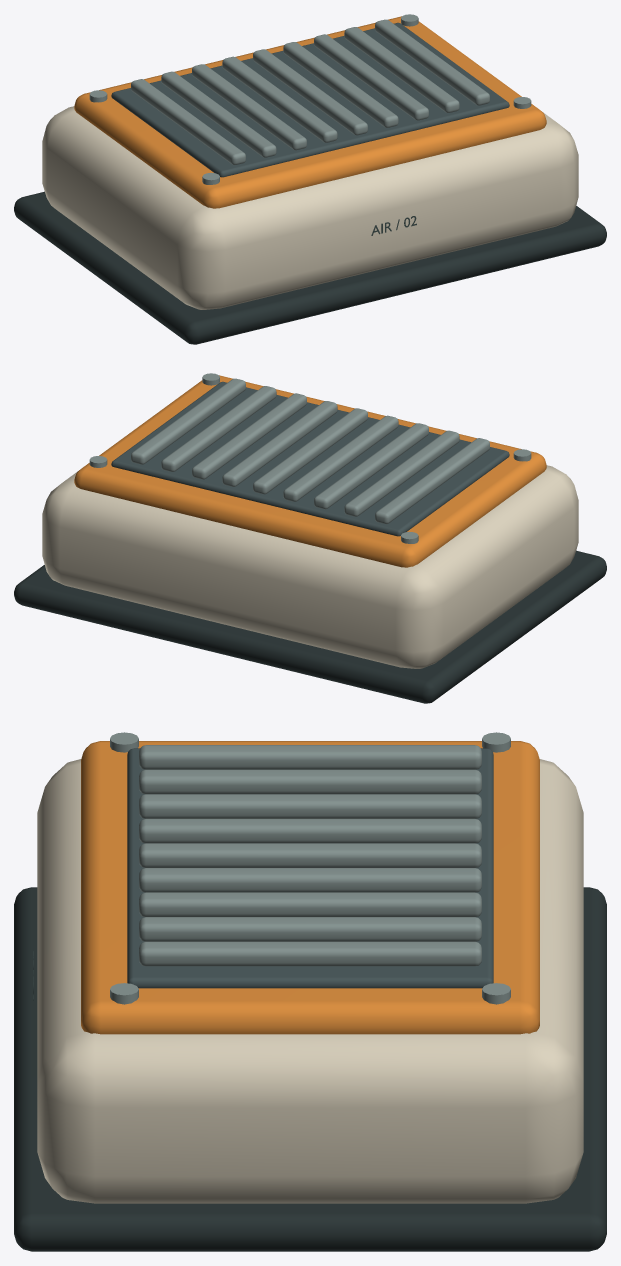
File: roof-vent.glb
3 views of the same model, one above another, from view 1: azimuth 30°, elevation 25°; view 2: azimuth 150°, elevation 25°; view 3: azimuth 270°, elevation 25° (orthographic). The views are drawn at different scales.
Parts seen in each view (by area): view 1: roof-vent / 01 • warm porcelain paint, roof-vent / 05 • brushed titanium, roof-vent / 04 • graphite gasket, roof-vent / 03 • ochre enamel, roof-vent / 06 • dark anodized frame; view 2: roof-vent / 01 • warm porcelain paint, roof-vent / 05 • brushed titanium, roof-vent / 04 • graphite gasket, roof-vent / 03 • ochre enamel, roof-vent / 06 • dark anodized frame; view 3: roof-vent / 01 • warm porcelain paint, roof-vent / 05 • brushed titanium, roof-vent / 04 • graphite gasket, roof-vent / 03 • ochre enamel, roof-vent / 06 • dark anodized frame.
Boxes of the visible parts, x1,y1,x2,y2 form: roof-vent / 01 • warm porcelain paint: (42, 106, 578, 309); roof-vent / 05 • brushed titanium: (89, 14, 531, 184); roof-vent / 04 • graphite gasket: (14, 191, 606, 344); roof-vent / 03 • ochre enamel: (74, 16, 546, 208); roof-vent / 06 • dark anodized frame: (111, 22, 509, 177); roof-vent / 01 • warm porcelain paint: (42, 465, 578, 668); roof-vent / 05 • brushed titanium: (89, 373, 531, 543); roof-vent / 04 • graphite gasket: (14, 550, 606, 703); roof-vent / 03 • ochre enamel: (74, 375, 546, 567); roof-vent / 06 • dark anodized frame: (111, 381, 509, 536); roof-vent / 01 • warm porcelain paint: (37, 759, 583, 1203); roof-vent / 05 • brushed titanium: (110, 732, 510, 1004); roof-vent / 04 • graphite gasket: (14, 887, 606, 1251); roof-vent / 03 • ochre enamel: (81, 741, 539, 1034); roof-vent / 06 • dark anodized frame: (127, 748, 493, 988).
Bounding box in the file's own units: 1.38 × 0.4575 × 1.02.
